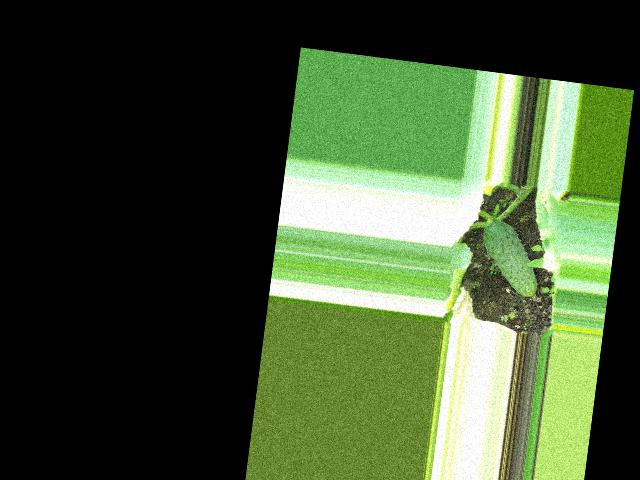cucumber: (475, 218, 545, 297)
